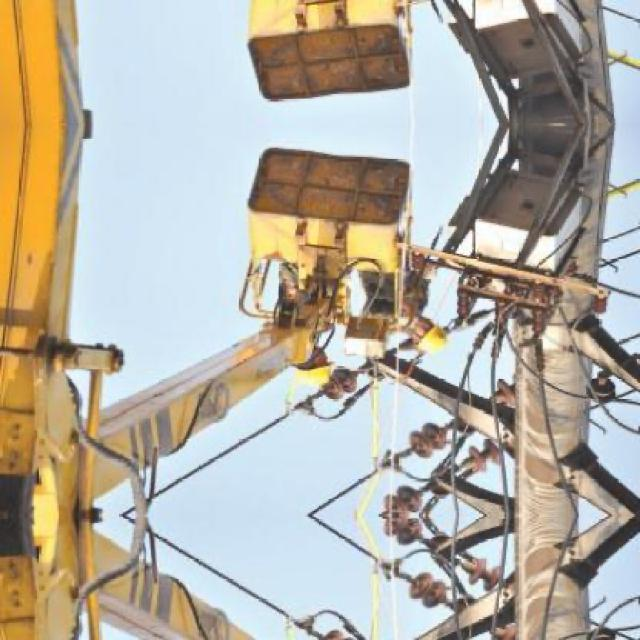con casco: (385, 298, 470, 366), (277, 339, 351, 401)
